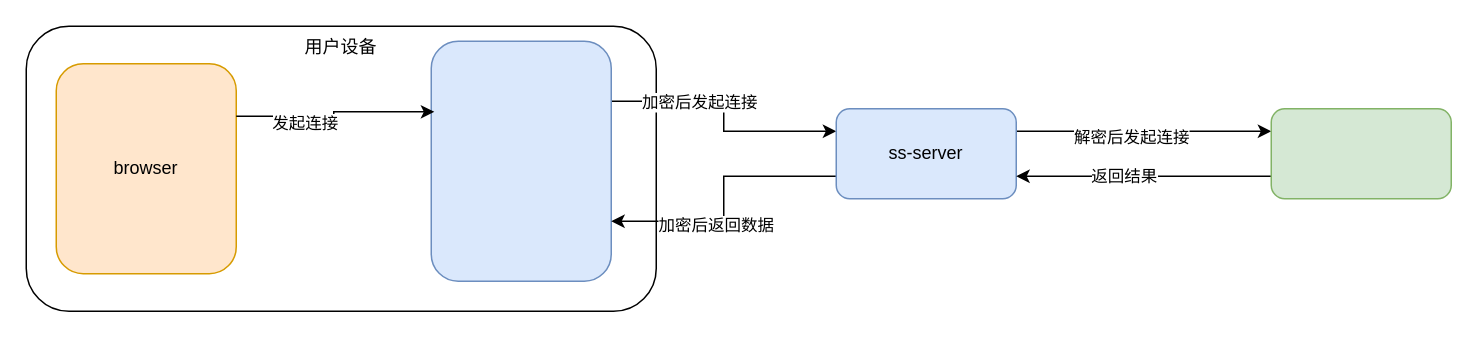
Image size: 1478x338. Some labels were removed from this diagram. The shapes that lost their labels are listed below. From the top down, each one's centre as x and y in pixels, then its label:
point (520, 160): ss-local
point (1360, 153): target-server
